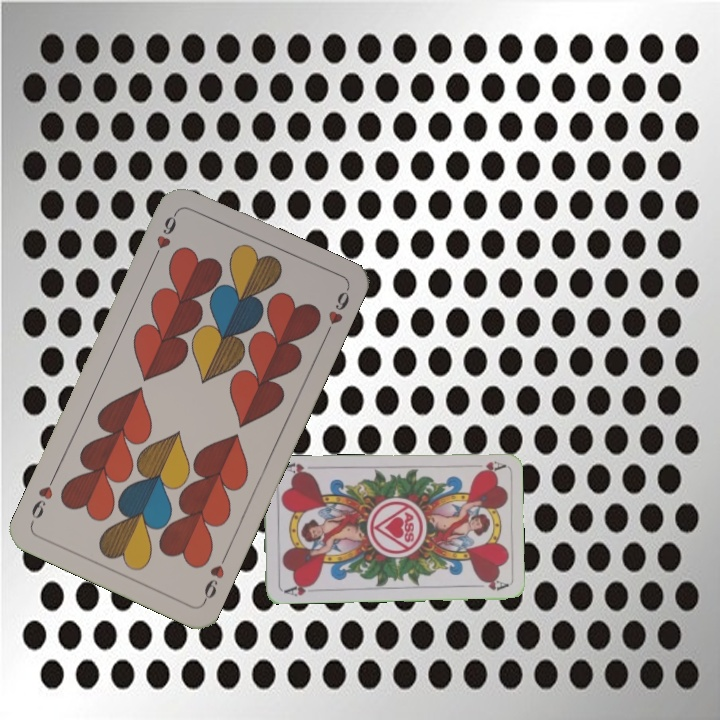H9: (148, 208, 180, 264), (199, 550, 230, 606)
HA: (280, 579, 317, 599), (466, 457, 506, 475)
